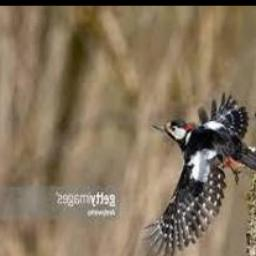Woodpecker: (142, 91, 256, 256)
